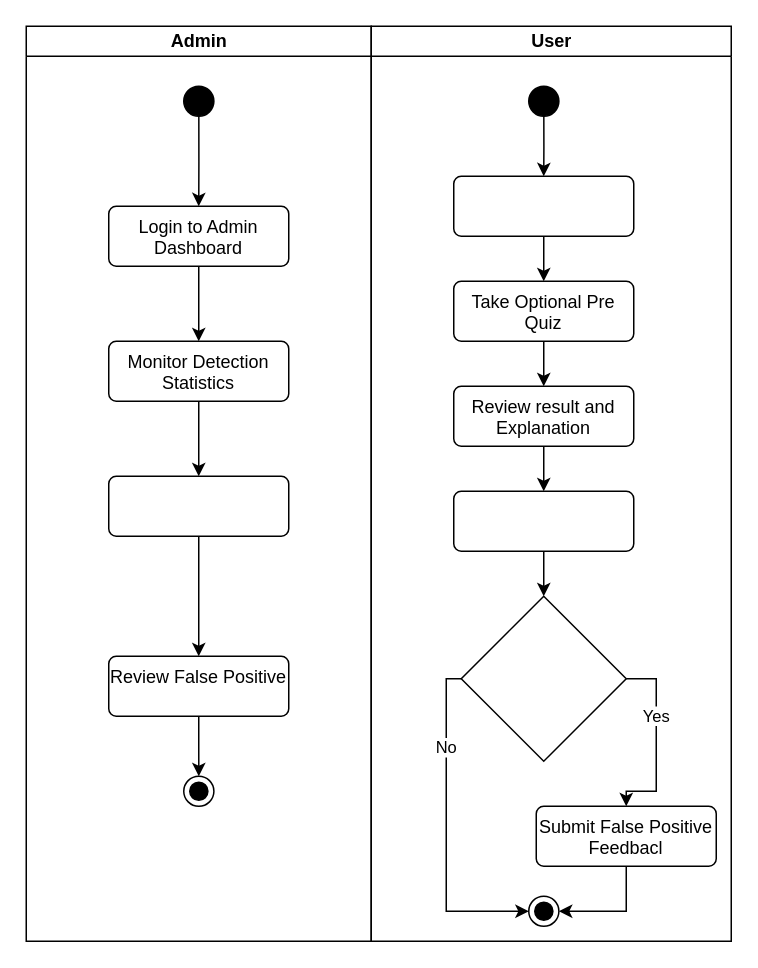
Image size: 758x968. Some labels were removed from this diagram. Each missing label, with the centre of its shape:
"Analyze Quiz Performance" belongs at point (198, 505).
"Report False Positive?" belongs at point (543, 678).
"Submit URL for Scanning" belongs at point (543, 205).
"Take Optional Post Quiz" belongs at point (543, 520).
